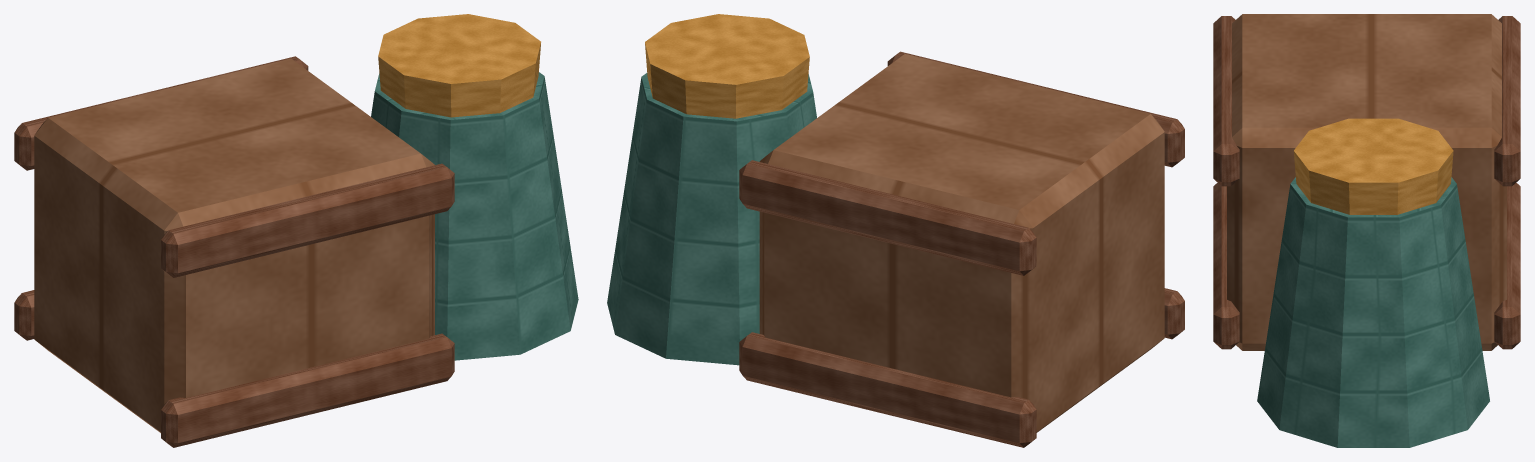
File: tea_crates.gltf
3 views of the same model, side by side, from view 1: azimuth 30°, elevation 25°; view 2: azimuth 150°, elevation 25°; view 3: azimuth 270°, elevation 25° (orthographic). The views are drawn at different scales.
Parts seen in each view (by area): view 1: tea_crates; view 2: tea_crates; view 3: tea_crates.
Boxes of the visible parts, box(x1,y1,x2,y2) form: tea_crates: box(14, 14, 578, 447); tea_crates: box(607, 14, 1184, 447); tea_crates: box(1213, 14, 1520, 447).
Bounding box in the file's own units: 1.57 × 0.83 × 0.923.
4 materials, 4 textured.
